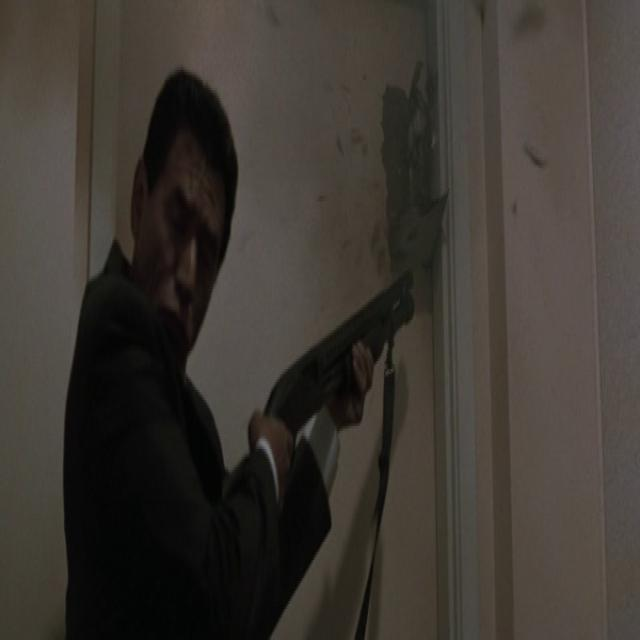rifle: (273, 264, 421, 431)
